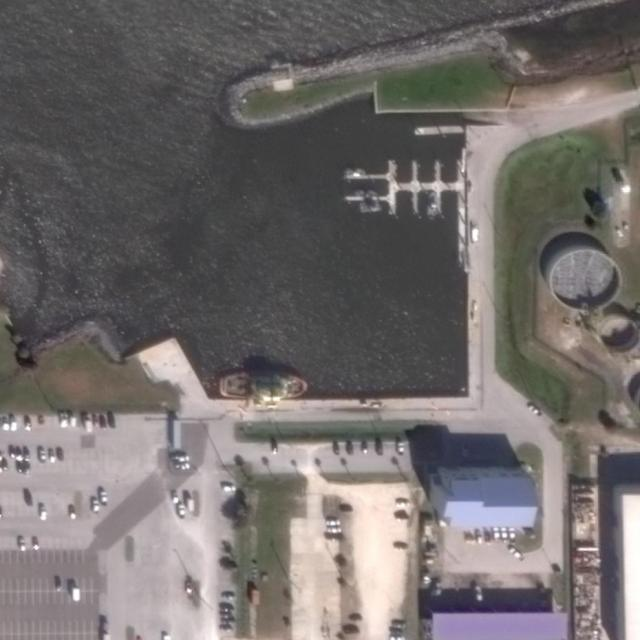Hovercraft: (220, 370, 310, 403)
